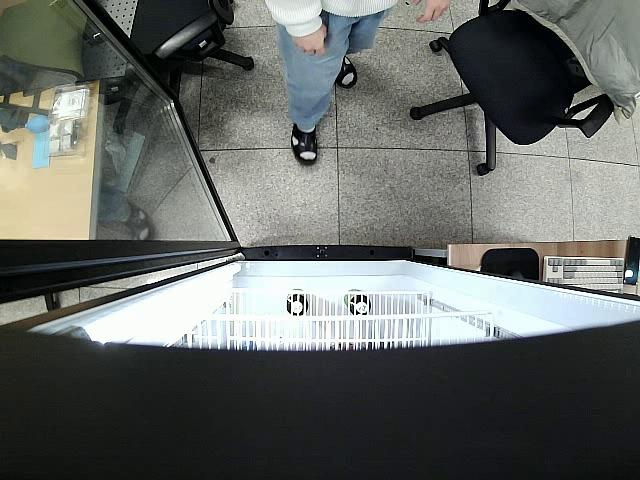00_hand: (292, 24, 329, 57), (409, 0, 449, 24)
